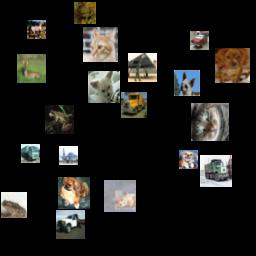airplane: (128, 53, 157, 82), (59, 146, 78, 165)
automobile: (190, 31, 209, 50)
cat: (191, 103, 229, 141), (83, 27, 118, 62), (104, 180, 136, 212)
deer: (17, 54, 46, 83)
dog: (215, 48, 250, 83), (58, 177, 90, 209), (88, 71, 120, 103), (174, 70, 200, 96), (179, 150, 198, 169)
frog: (45, 105, 74, 134), (1, 192, 27, 218), (74, 2, 96, 24)
truck: (200, 155, 232, 187), (56, 210, 85, 239), (121, 92, 147, 118), (21, 144, 40, 163)
